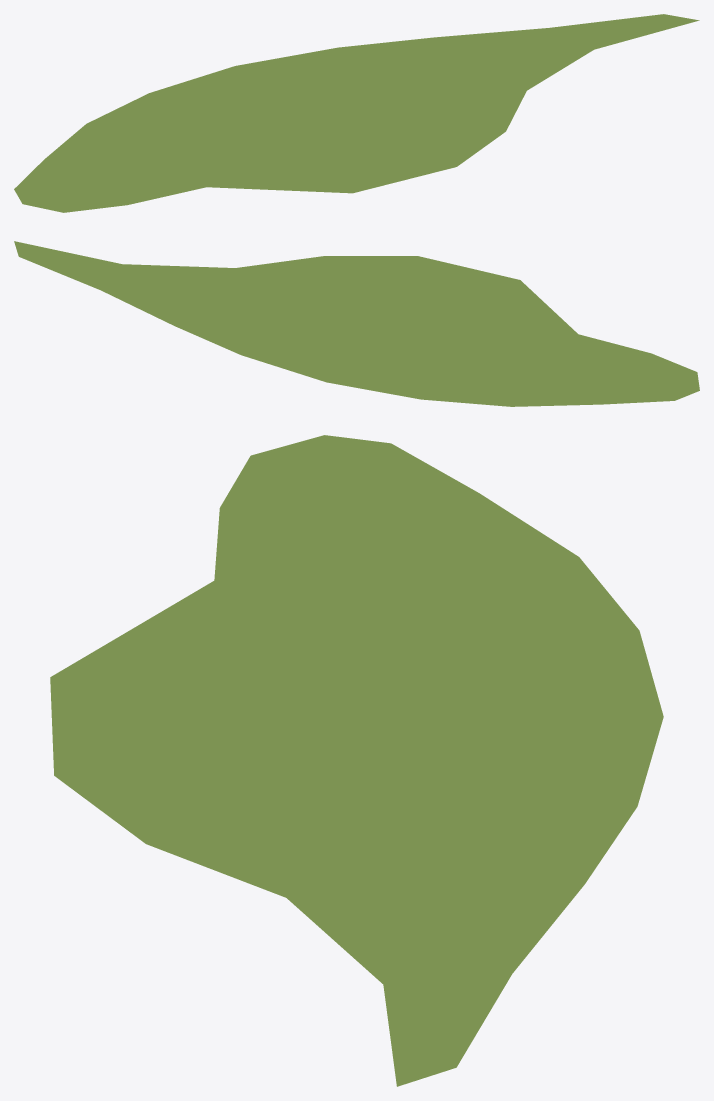
Rendered from Mesh_Battle_Forest_Ground_11.FBX.
3 views of the same model, one above another, from view 1: azimuth 30°, elevation 25°; view 2: azimuth 150°, elevation 25°; view 3: azimuth 270°, elevation 25° (orthographic). The views are drawn at different scales.
Parts seen in each view (by area): view 1: Mesh_Battle_Forest_Ground_11; view 2: Mesh_Battle_Forest_Ground_11; view 3: Mesh_Battle_Forest_Ground_11.
Boxes of the visible parts, bbox=[...] form: Mesh_Battle_Forest_Ground_11: bbox=[14, 14, 699, 212]; Mesh_Battle_Forest_Ground_11: bbox=[14, 241, 699, 406]; Mesh_Battle_Forest_Ground_11: bbox=[50, 435, 663, 1086].
Bounding box in the file's own units: 172 × 9.54e-07 × 68.46.
